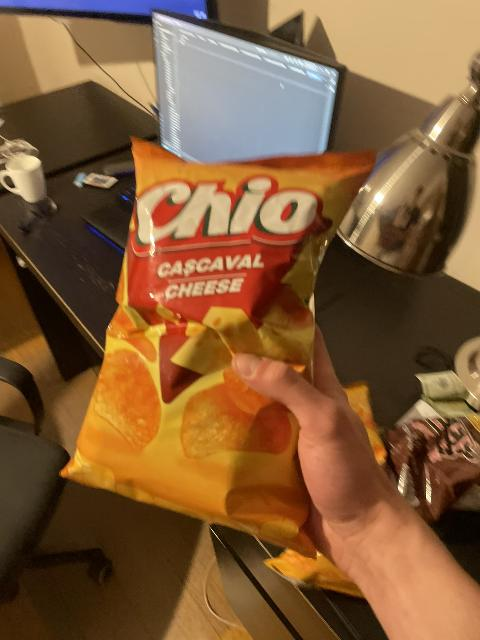Chio Cascaval 125g: (58, 145, 371, 539)
Lays Beef Grilled Ribs 125g: (384, 413, 480, 520)
